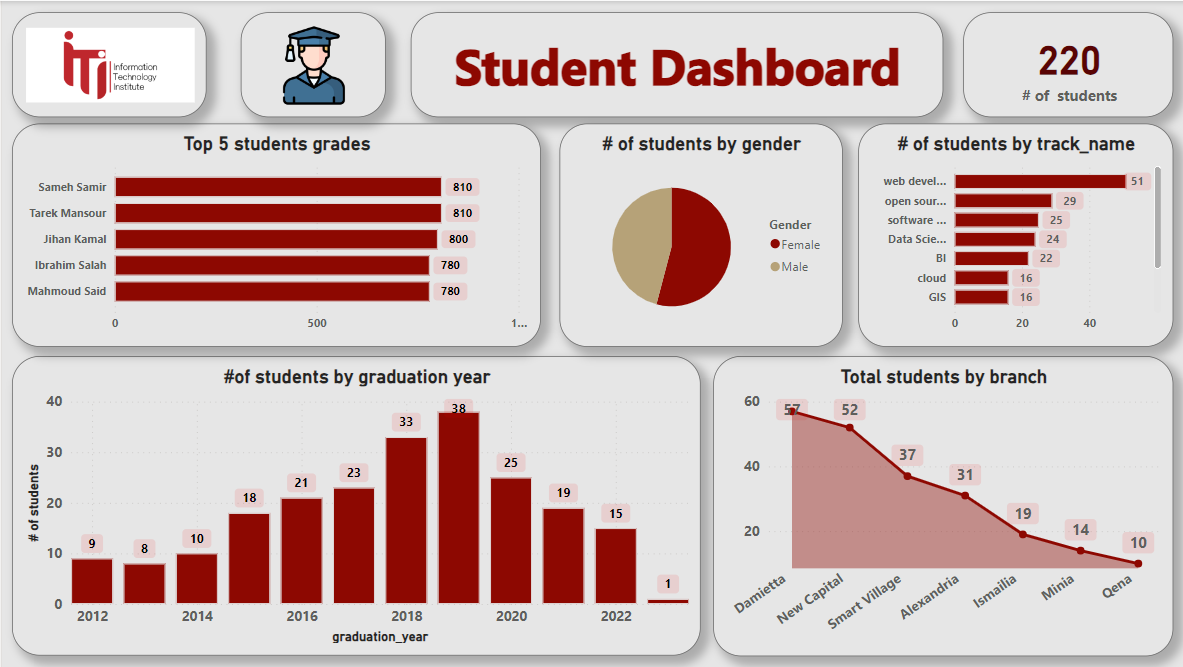

Layout of this report page (visuals, bound fields, positions):
{"tool":"powerbi","page":{"name":"students","canvas":[1280,720],"ordinal":1},"visuals":[{"type":"shape","box":[442.1,12.2,575.9,113.6],"z":0},{"type":"columnChart","title":"#of students by graduation year","fields":{"Y":["Dim_Students.Total students"],"Category":["Dim_Students.graduation_year"]},"box":[11,384.2,745.1,323.8],"z":1000},{"type":"areaChart","title":"Total students by branch","fields":{"Y":["Dim_Students.Total students"],"Category":["Dim_Students.branch_name"]},"box":[769.2,383.9,497.5,324.5],"z":2000},{"type":"pieChart","fields":{"Category":["Dim_Students.gender"],"Y":["Dim_Students.Total students"]},"box":[602.5,132.8,306,241.6],"z":3000},{"type":"barChart","title":"Top 5 students grades","fields":{"Category":["Dim_Students.st_name"],"Y":["Sum(Fact_Grades.Grades)"]},"box":[10.6,132.8,571.7,241.6],"z":4000},{"type":"image","box":[10.6,11.5,210.8,113.6],"z":5000},{"type":"image","box":[258.9,11.5,156.9,113.6],"z":6000},{"type":"card","fields":{"Values":["Dim_Students.# of  students"]},"box":[1039.4,11.5,227.1,113.6],"z":7000},{"type":"clusteredBarChart","fields":{"Category":["Dim_Students.track_name"],"Y":["Dim_Students.# of  students"]},"box":[925.8,132.8,340.7,241.6],"z":8000}]}

Visuals, with their boxes in screenshot pixels (x1, y1, x2, y2), scaled from the page's 1280x720 canvas onto the 1183x667 screenshot:
shape: 409:11:941:117
"#of students by graduation year" columnChart: 10:356:699:656
"Total students by branch" areaChart: 711:356:1171:656
pieChart - Dim_Students.gender x Dim_Students.Total students: 557:123:840:347
"Top 5 students grades" barChart: 10:123:538:347
image: 10:11:205:116
image: 239:11:384:116
card - Dim_Students.# of  students: 961:11:1171:116
clusteredBarChart - Dim_Students.track_name x Dim_Students.# of  students: 856:123:1171:347
